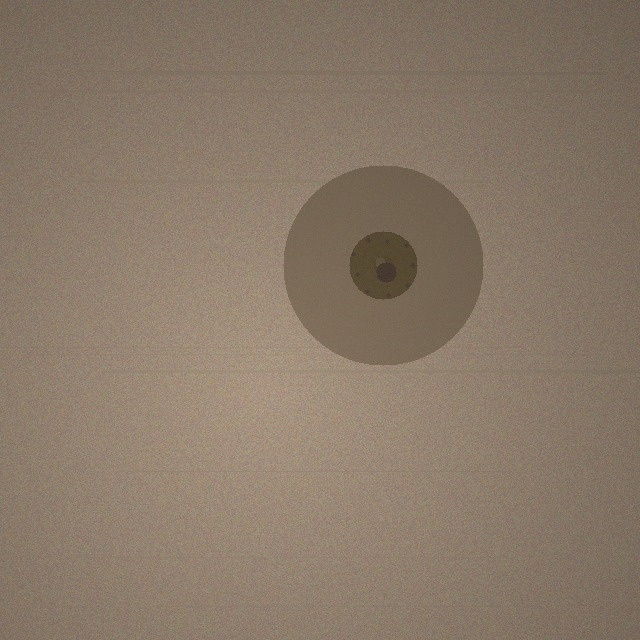cold_weld: (283, 165, 483, 365)
